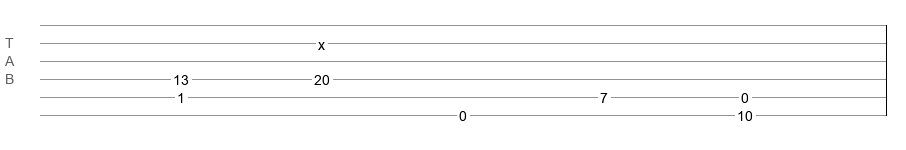0: (459, 108, 467, 118), (741, 90, 749, 100)
1: (177, 90, 185, 100)
10: (737, 108, 753, 118)
13: (173, 72, 189, 82)
20: (314, 72, 330, 82)
7: (600, 90, 608, 100)
x: (318, 37, 325, 45)
